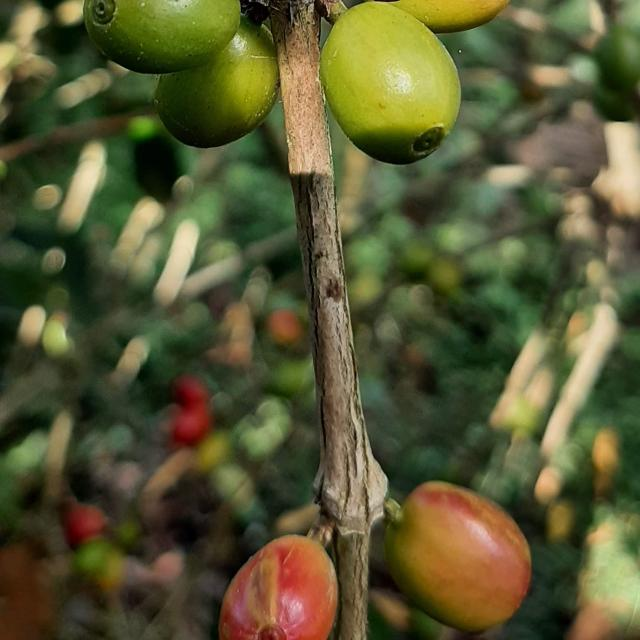green: (320, 1, 461, 164), (153, 15, 279, 147), (83, 0, 240, 73)
yellow: (385, 482, 532, 633), (219, 536, 338, 640)
